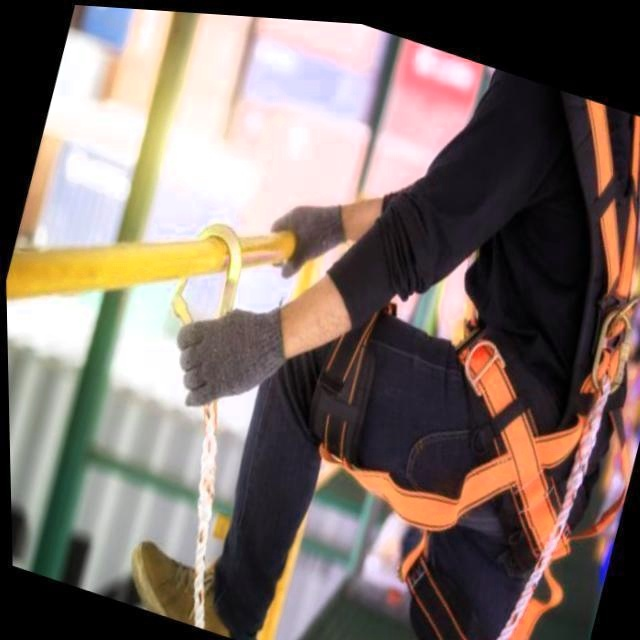safety belt: (483, 95, 618, 574)
